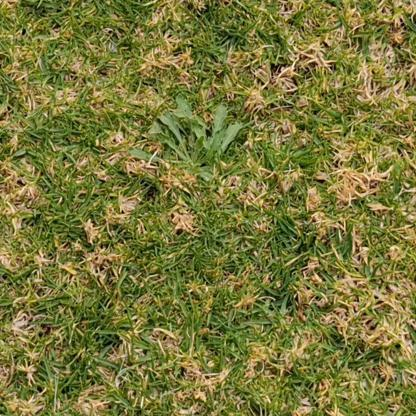Weeds: (129, 93, 243, 183)
